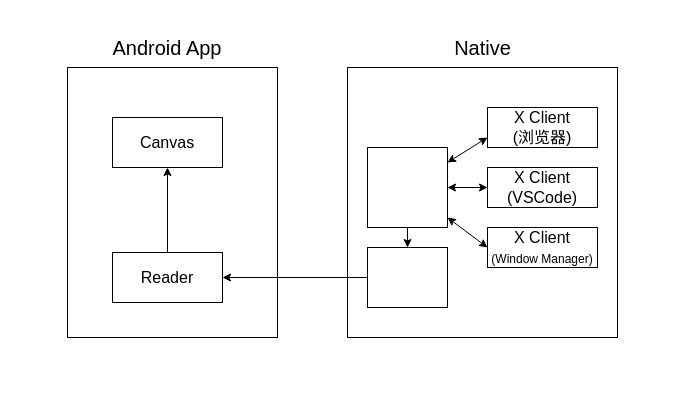
Image size: 684x394. Some labels were removed from this diagram. Here are the shapes that lost their labels. From the top down, the centre of each, then its label:
At point (407, 187): "X Server".
At point (407, 277): "虚拟屏幕".
